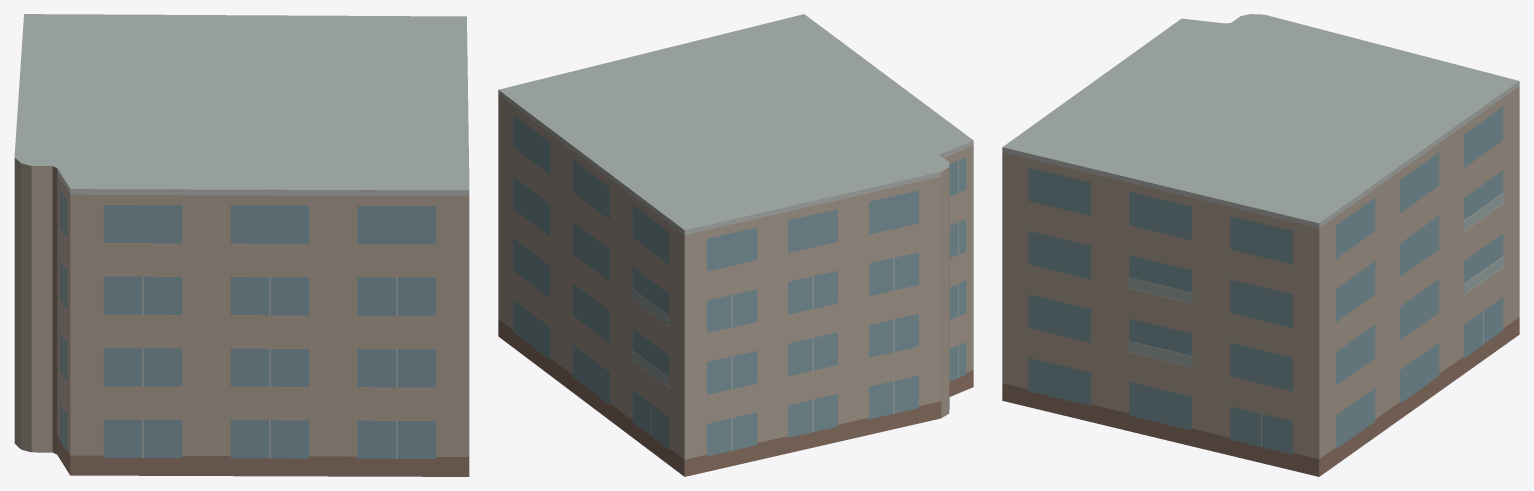
Rendered from survey-upis-32917367.glb.
3 views of the same model, side by side, from view 1: azimuth 30°, elevation 25°; view 2: azimuth 150°, elevation 25°; view 3: azimuth 270°, elevation 25° (orthographic). The views are drawn at different scales.
Parts seen in each view (by area): view 1: survey-upis-32917367.tmp; view 2: survey-upis-32917367.tmp; view 3: survey-upis-32917367.tmp.
Part boxes in pixels (box(x1,y1,x2,y2)): survey-upis-32917367.tmp: box(14, 14, 469, 476); survey-upis-32917367.tmp: box(498, 14, 973, 476); survey-upis-32917367.tmp: box(1002, 14, 1519, 476).
Bounding box in the file's own units: 21.61 × 12.2 × 22.56.
